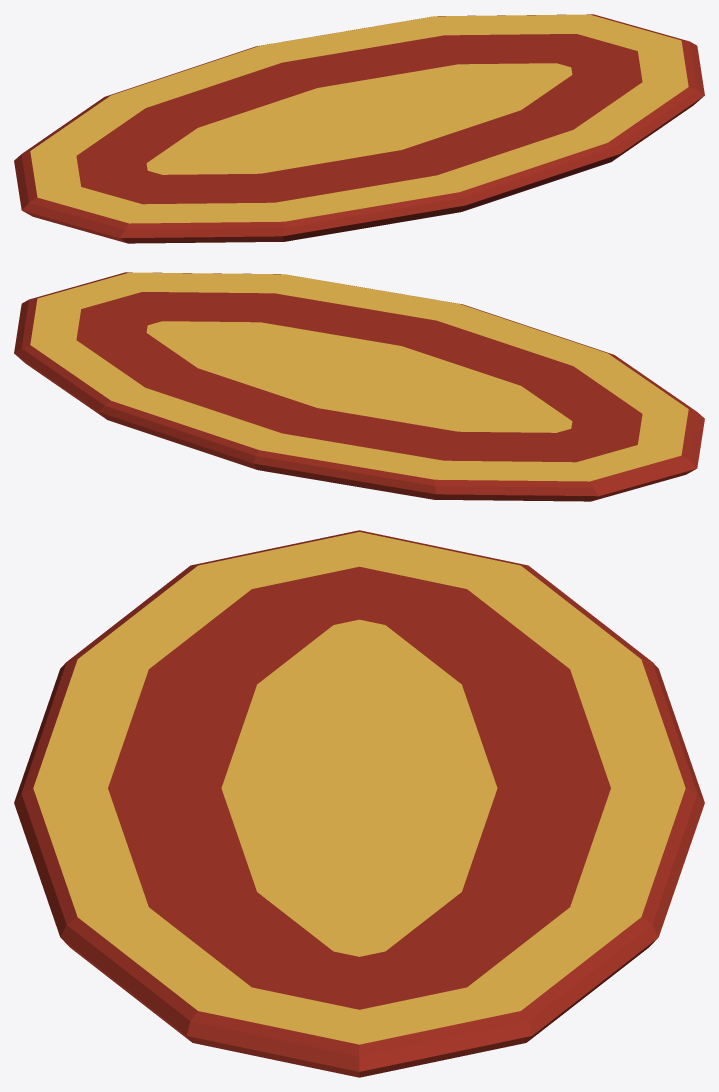
The model's file is carpetB.gltf.
The picture shows the model from 3 angles, top to bottom: view 1: azimuth 30°, elevation 25°; view 2: azimuth 150°, elevation 25°; view 3: azimuth 270°, elevation 25°; orthographic projection. The views are drawn at different scales.
Visible parts, largest first — view 1: Carpet A; view 2: Carpet A; view 3: Carpet A.
Boxes of the visible parts, box(x1,y1,x2,y2) form: Carpet A: box(14, 14, 704, 243); Carpet A: box(14, 272, 704, 501); Carpet A: box(14, 530, 704, 1077).
Size of the model in its own units: 11.73 by 0.2995 by 6.37.
